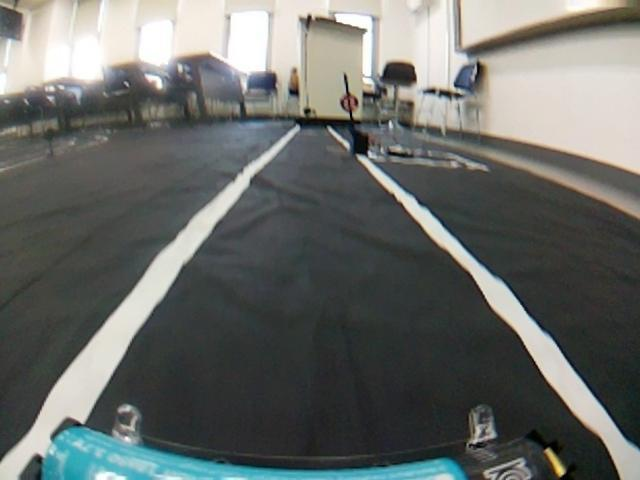sign_stop: (341, 93, 359, 113)
straight: (5, 156, 640, 479)
